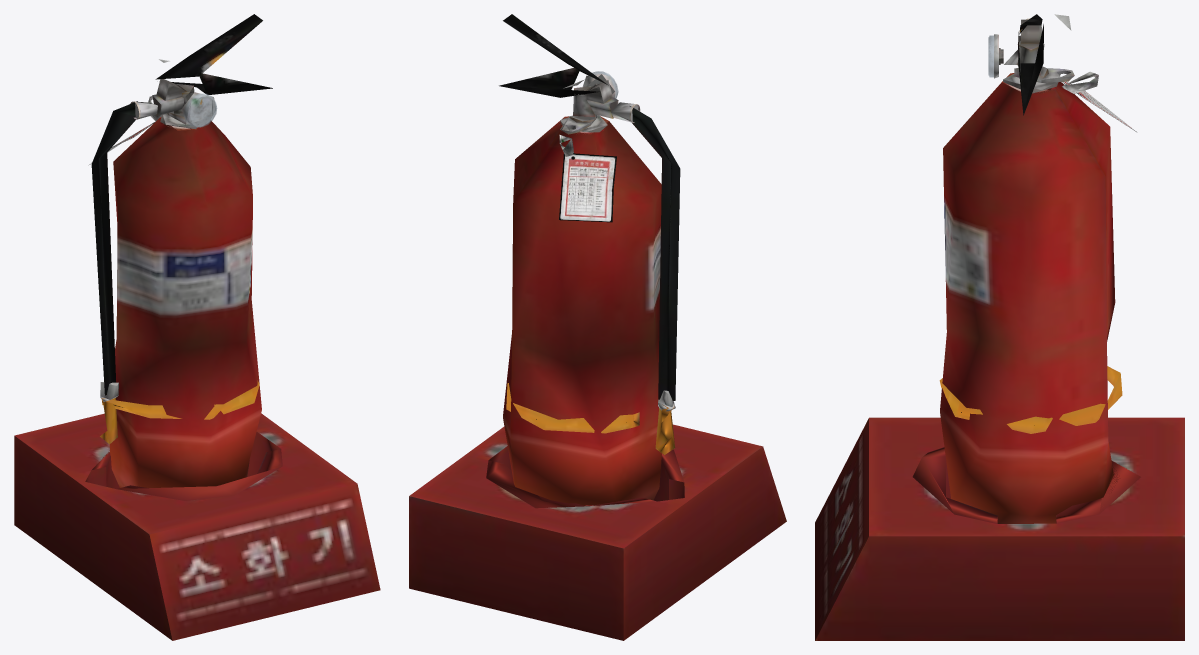
File: extinguisher.glb
3 views of the same model, side by side, from view 1: azimuth 30°, elevation 25°; view 2: azimuth 150°, elevation 25°; view 3: azimuth 270°, elevation 25° (orthographic). The views are drawn at different scales.
Parts seen in each view (by area): view 1: korean_fire_extinguisher_01; view 2: korean_fire_extinguisher_01; view 3: korean_fire_extinguisher_01.
Part boxes in pixels (box(x1,y1,x2,y2)): korean_fire_extinguisher_01: box(14, 14, 380, 640); korean_fire_extinguisher_01: box(409, 14, 786, 640); korean_fire_extinguisher_01: box(815, 14, 1184, 640).
Size of the model in its own units: 0.279 by 0.6567 by 0.3675.
3 materials, 3 textured.
